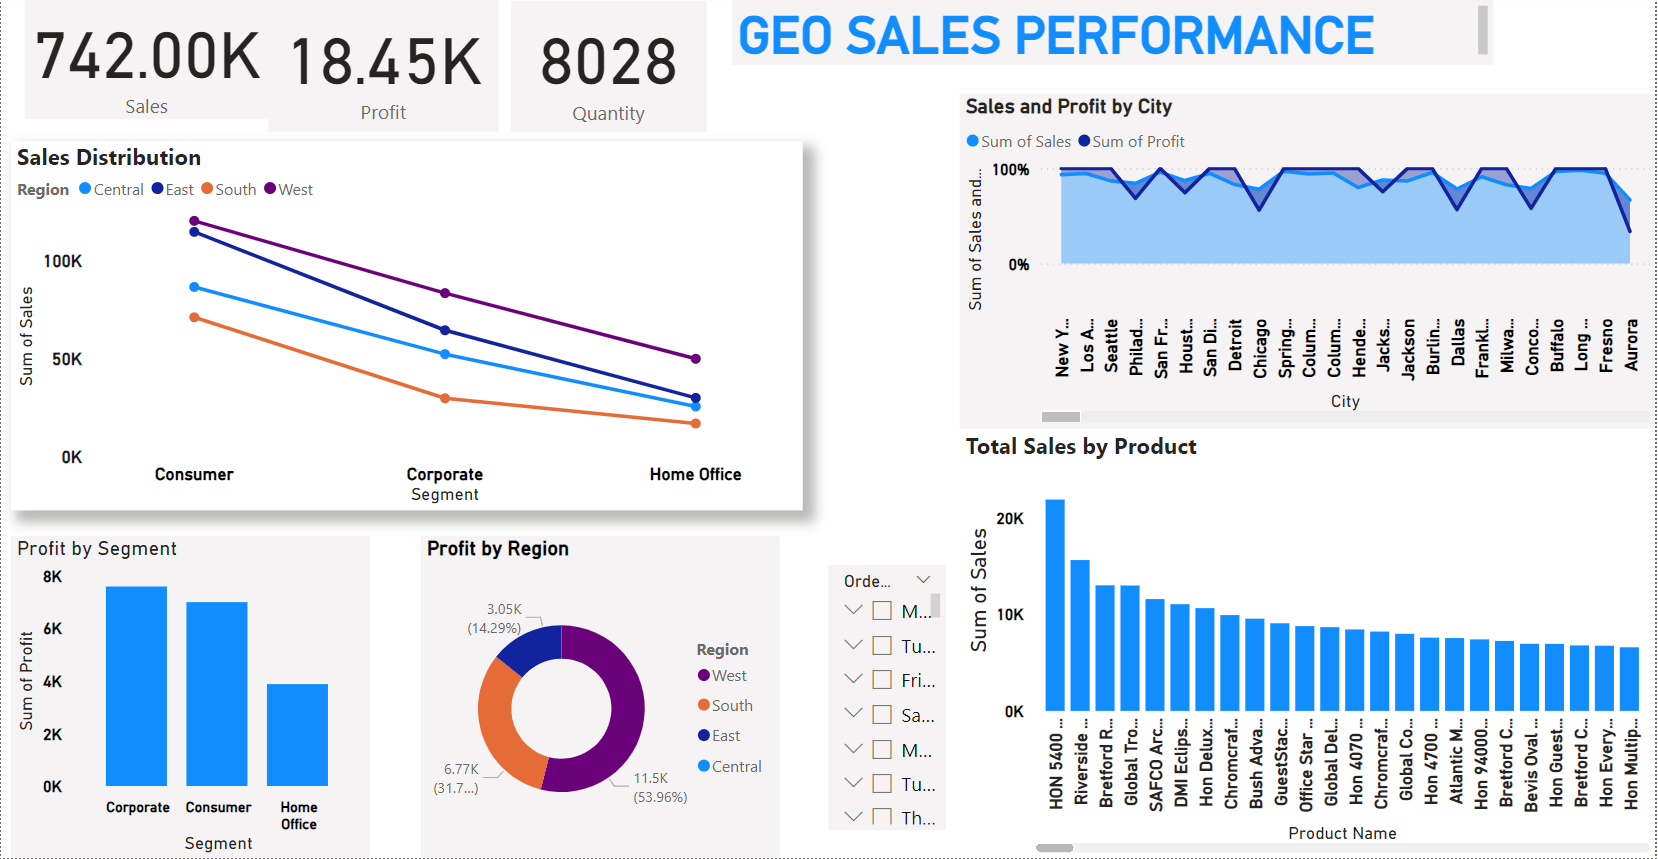

The dashboard page shown, as its layout file describes it:
{"tool":"powerbi","page":{"name":"Page 1","canvas":[1388,720],"ordinal":0},"visuals":[{"type":"card","fields":{"Values":["Sum(stores_sales_forecasting.Sales)"]},"box":[19.8,0,204.7,100],"z":0},{"type":"lineChart","title":"Sales Distribution","fields":{"Category":["stores_sales_forecasting.Segment"],"Y":["Sum(stores_sales_forecasting.Sales)"],"Series":["stores_sales_forecasting.Region"]},"box":[8.4,118.5,663.6,309.3],"z":1000},{"type":"columnChart","title":"Profit by Segment","fields":{"Category":["stores_sales_forecasting.Segment"],"Y":["Sum(stores_sales_forecasting.Profit)"]},"box":[8.4,449.7,300.9,270.5],"z":2000},{"type":"donutChart","title":" Profit by Region","fields":{"Y":["Sum(stores_sales_forecasting.Profit)"],"Category":["stores_sales_forecasting.Region"]},"box":[352.2,449.7,300.9,270.5],"z":3000},{"type":"card","fields":{"Values":["Sum(stores_sales_forecasting.Profit)"]},"box":[224.4,0,193,110.5],"z":4000},{"type":"card","fields":{"Values":["Sum(stores_sales_forecasting.Quantity)"]},"box":[427.9,1.2,164,109.3],"z":5000},{"type":"lineStackedColumnComboChart","title":"Total Sales by Product","fields":{"Category":["stores_sales_forecasting.Product Name"],"Y":["Sum(stores_sales_forecasting.Sales)"]},"box":[804.1,360.6,583.9,359.6],"z":6000},{"type":"slicer","fields":{"Values":["stores_sales_forecasting.Order Date","stores_sales_forecasting.Product Name","stores_sales_forecasting.Segment"]},"box":[694,473.9,98.5,222.2],"z":7000},{"type":"hundredPercentStackedAreaChart","title":"Sales and  Profit by City","fields":{"Category":["stores_sales_forecasting.City"],"Y":["Sum(stores_sales_forecasting.Sales)","Sum(stores_sales_forecasting.Profit)"]},"box":[804.1,78.6,583.9,281],"z":8000},{"type":"textbox","box":[613.3,0,638.4,54.5],"z":9000}]}

Visuals, with their boxes in screenshot pixels (x1, y1, x2, y2), scaled from the page's 1388x720 canvas onto the 1658x859 screenshot:
card - Sum(stores_sales_forecasting.Sales): box(24, 0, 268, 119)
"Sales Distribution" lineChart: box(10, 141, 803, 510)
"Profit by Segment" columnChart: box(10, 537, 369, 858)
" Profit by Region" donutChart: box(421, 537, 780, 858)
card - Sum(stores_sales_forecasting.Profit): box(268, 0, 499, 132)
card - Sum(stores_sales_forecasting.Quantity): box(511, 1, 707, 132)
"Total Sales by Product" lineStackedColumnComboChart: box(961, 430, 1657, 858)
slicer - stores_sales_forecasting.Order Date x stores_sales_forecasting.Product Name: box(829, 565, 947, 830)
"Sales and  Profit by City" hundredPercentStackedAreaChart: box(961, 94, 1657, 429)
textbox: box(733, 0, 1495, 65)
